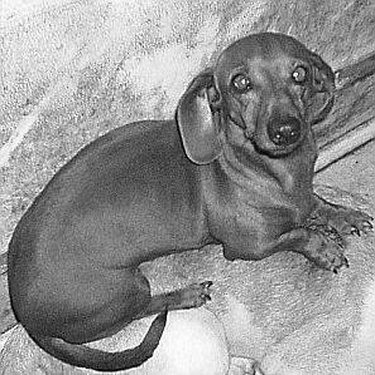dog: (4, 28, 372, 373)
